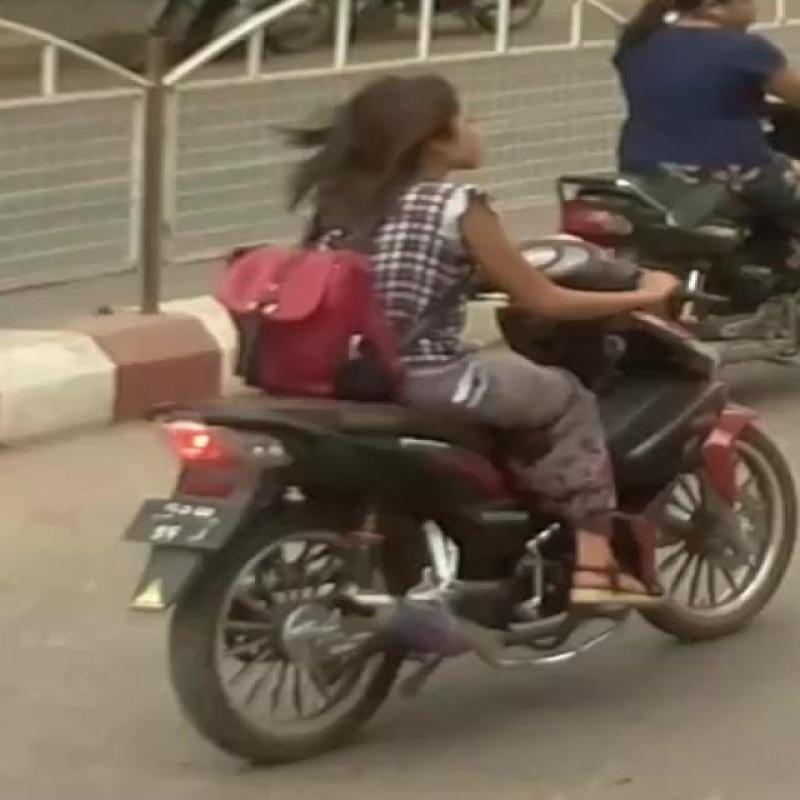nohelmet: (298, 51, 527, 198)
